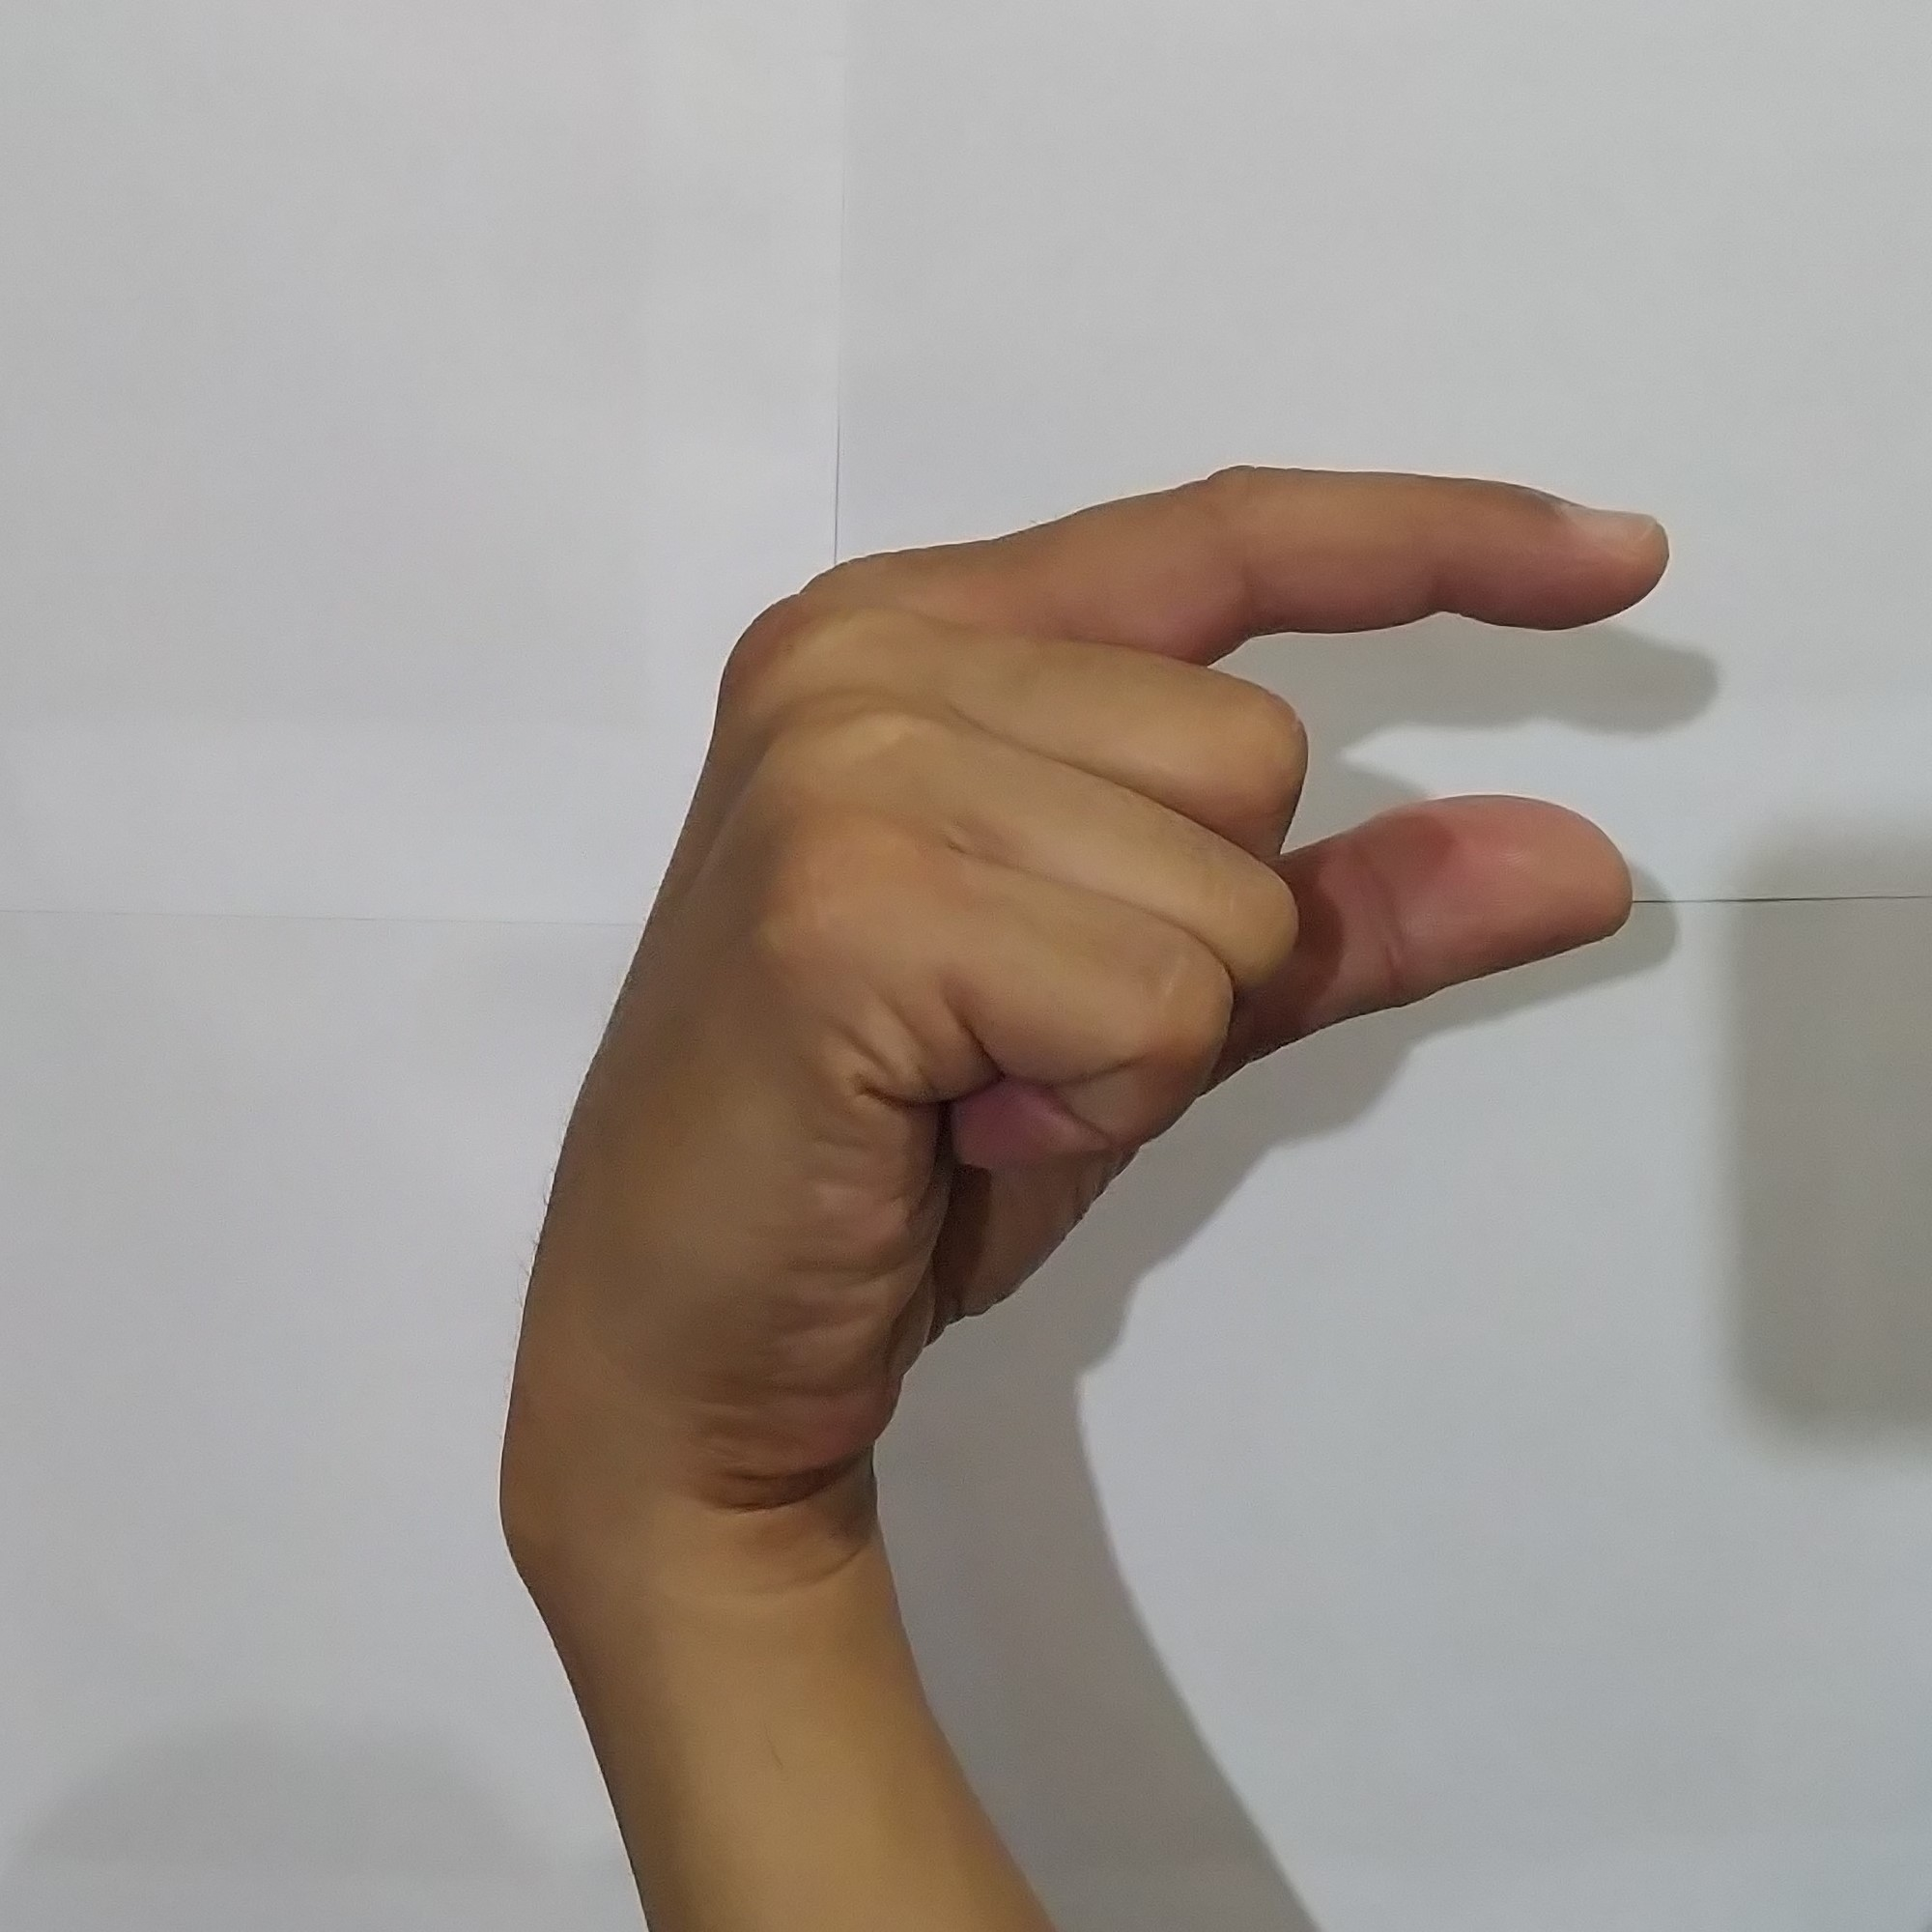G: (510, 439, 1695, 1461)
